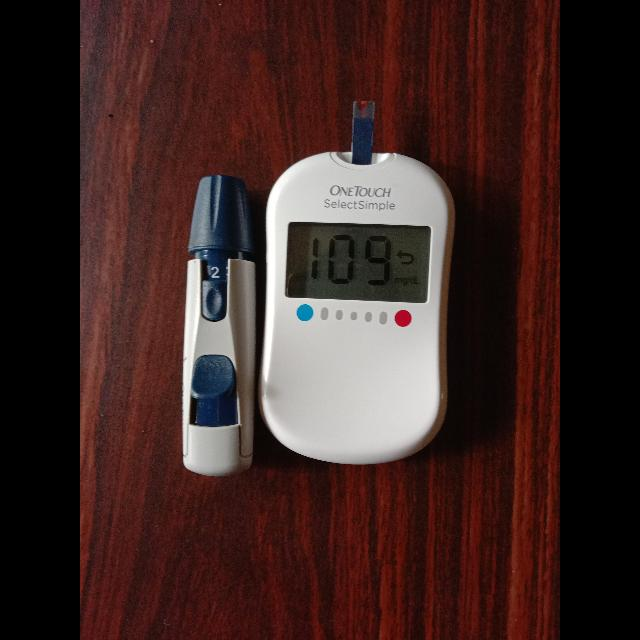Glucose-Meter: (259, 100, 455, 463)
